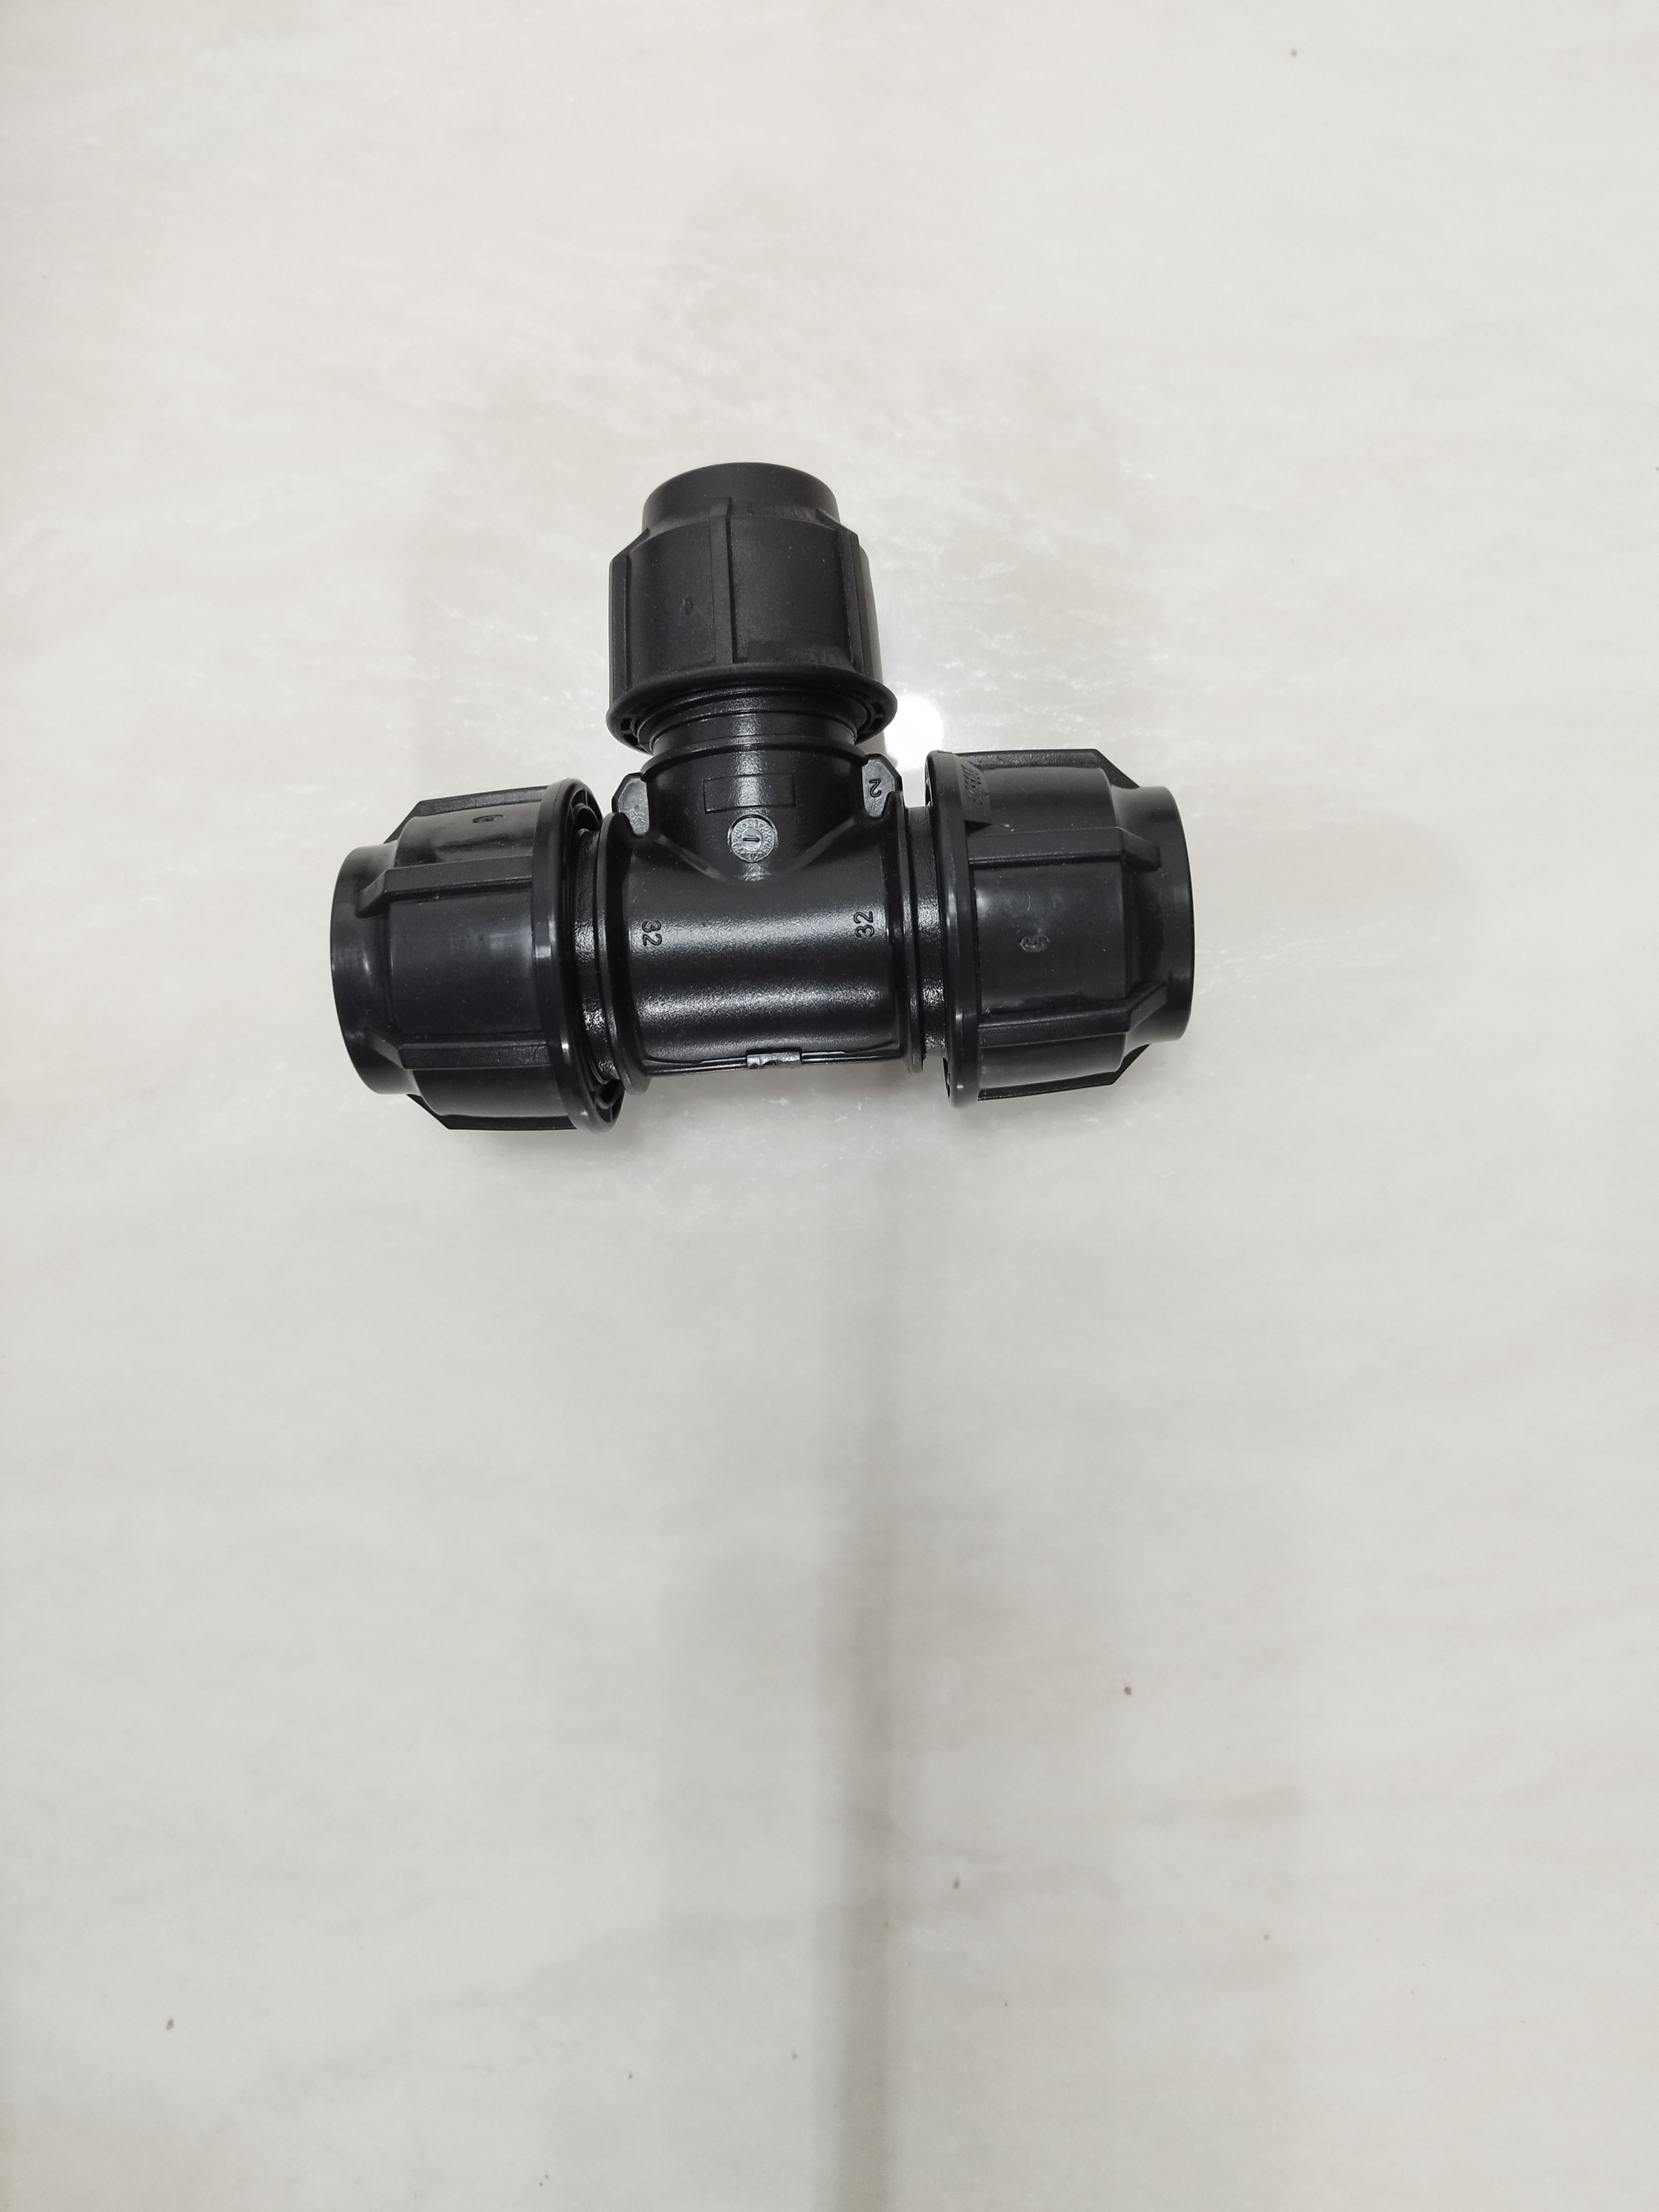plastic_tee_connector: (296, 444, 1213, 1200)
